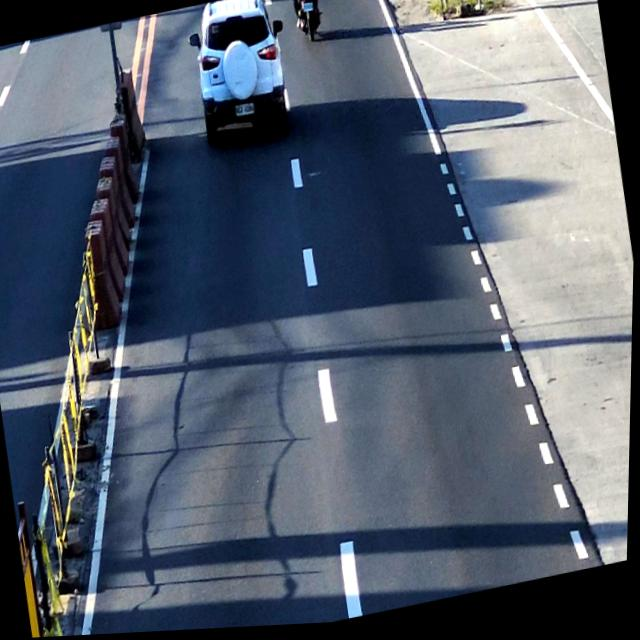Car: (186, 0, 294, 158)
License-Plate: (235, 102, 259, 123), (302, 4, 315, 18)
Motorcycle: (287, 0, 330, 53)
